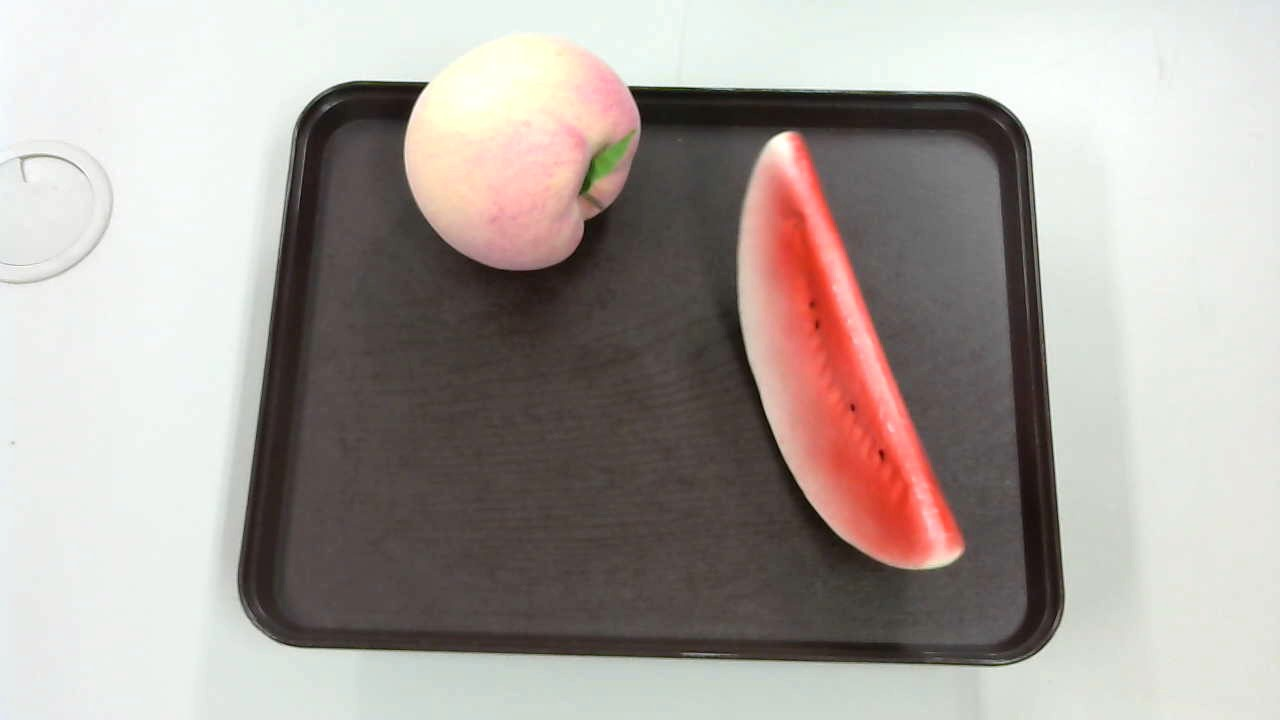peach: (400, 30, 645, 283)
water melon: (721, 130, 968, 583)
